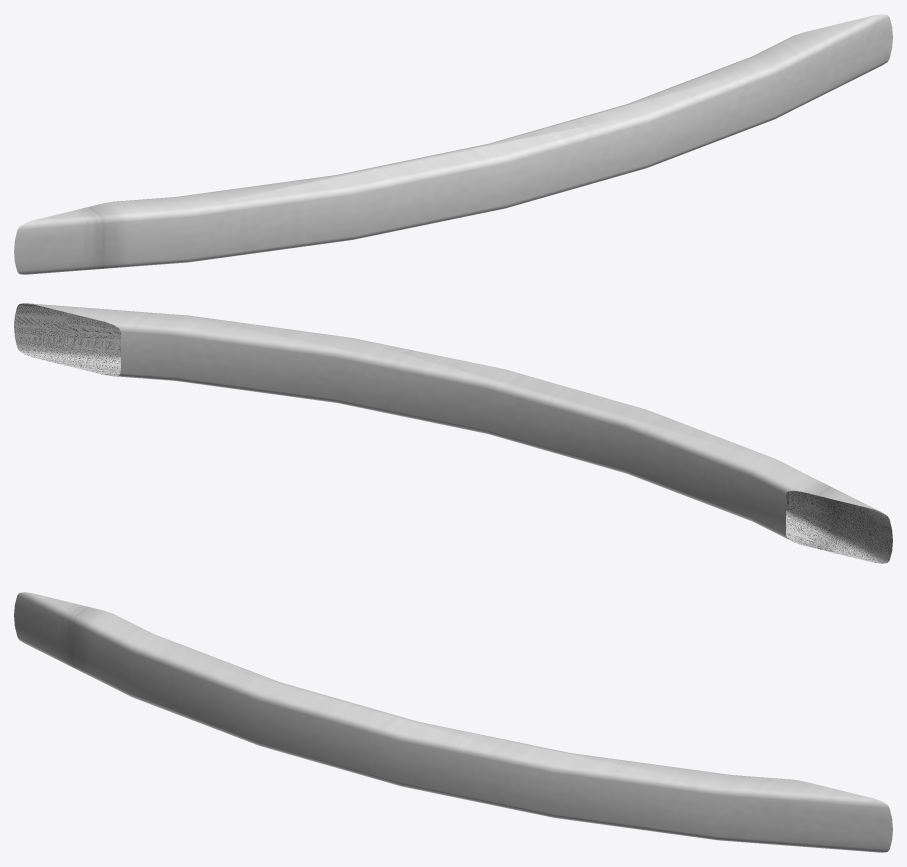
Rendered from original-1.obj.
3 renders of one model, top to bottom at view 1: azimuth 30°, elevation 25°; view 2: azimuth 150°, elevation 25°; view 3: azimuth 330°, elevation 25°, orthographic.
Parts seen in each view (by area): view 1: H1_1/H1/mesh1/mesh1-geometry#mesh1-geometry; view 2: H1_1/H1/mesh1/mesh1-geometry#mesh1-geometry; view 3: H1_1/H1/mesh1/mesh1-geometry#mesh1-geometry.
Boxes of the visible parts, box(x1,y1,x2,y2) form: H1_1/H1/mesh1/mesh1-geometry#mesh1-geometry: box(14, 14, 892, 274); H1_1/H1/mesh1/mesh1-geometry#mesh1-geometry: box(14, 303, 892, 563); H1_1/H1/mesh1/mesh1-geometry#mesh1-geometry: box(14, 592, 892, 852).
Bounding box in the file's own units: 0.9272 × 0.0537 × 0.0982.
